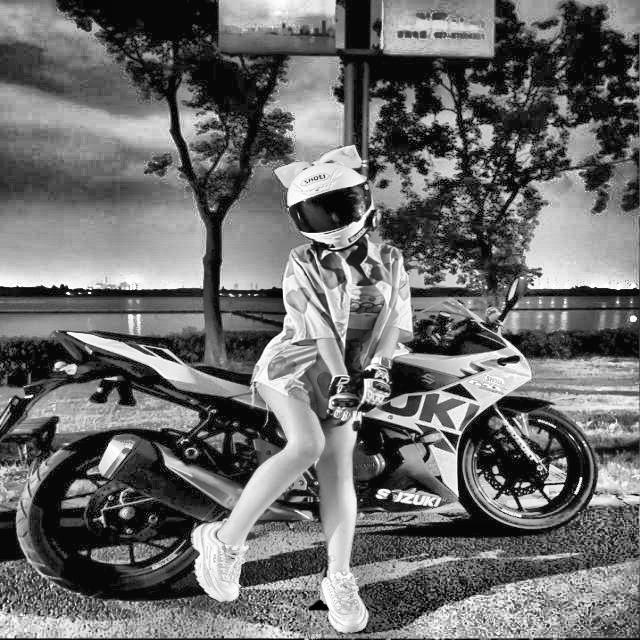Helmet: (283, 160, 384, 254)
